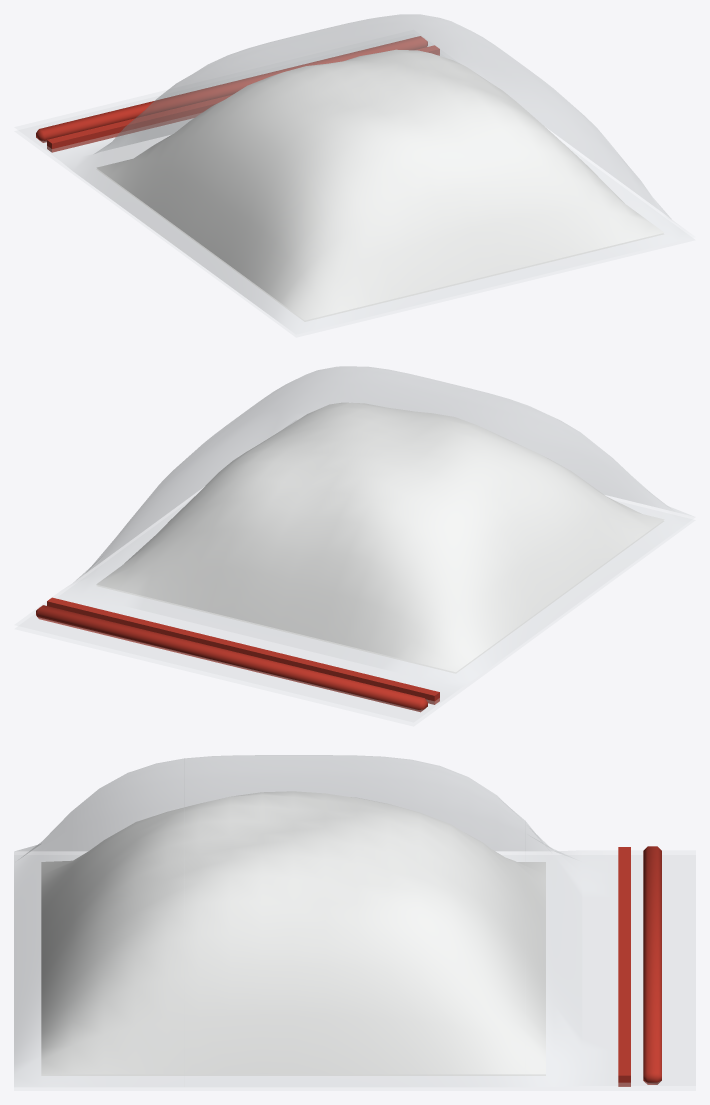
File: drug_packet.glb
3 renders of one model, top to bottom at view 1: azimuth 30°, elevation 25°; view 2: azimuth 150°, elevation 25°; view 3: azimuth 270°, elevation 25°, orthographic. The views are drawn at different scales.
Visible parts, largest first — view 1: drug_packet; view 2: drug_packet; view 3: drug_packet.
Boxes of the visible parts, left/top/right/bottom form: drug_packet: left=14, top=14, right=694, bottom=337; drug_packet: left=15, top=366, right=695, bottom=726; drug_packet: left=14, top=755, right=695, bottom=1090.
Bounding box in the file's own units: 0.09 × 0.03 × 0.11.
